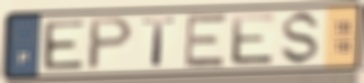E: (181, 12, 230, 70), (229, 11, 278, 67), (41, 18, 87, 72)
P: (84, 15, 137, 73)
S: (277, 9, 324, 67)
T: (141, 16, 179, 68)
